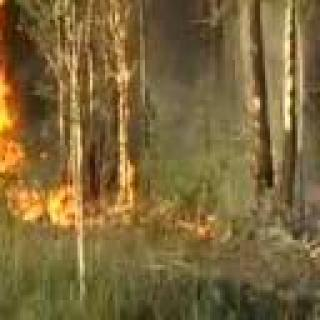fire: (0, 112, 87, 236), (0, 0, 17, 104)
